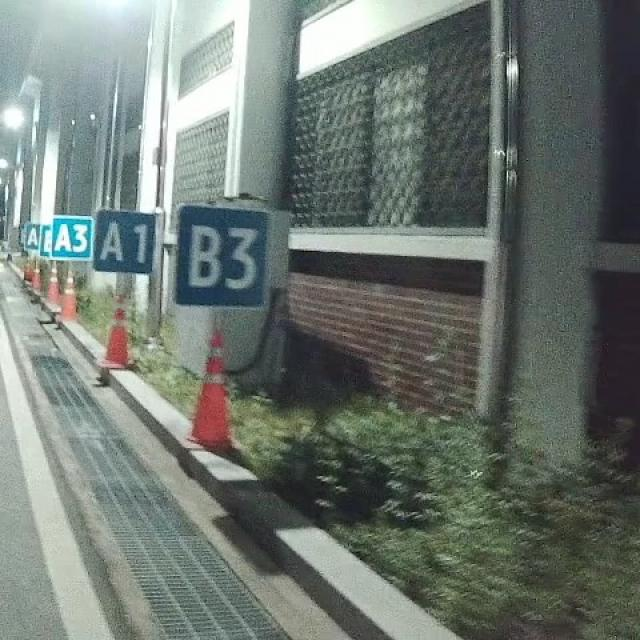a1: (89, 205, 160, 277)
a3: (50, 213, 94, 260)
b3: (170, 200, 272, 312)
